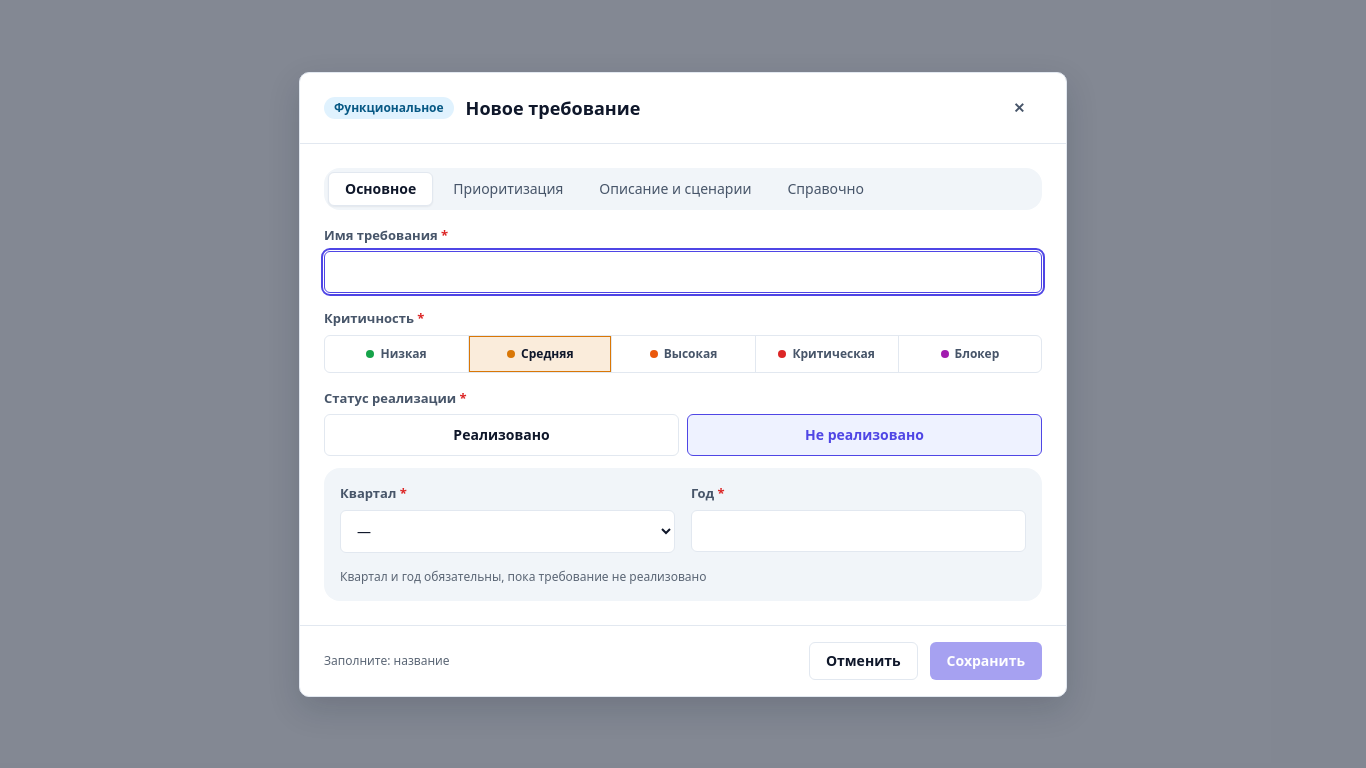
RequirementModal — AI generation (T-803) › T4: «Заменить описание» overwrites the current description
This screenshot has width=1366, height=768.
In the field with test id "req-name": (683,272) 324,251 -> 1042,293, type "Требование"
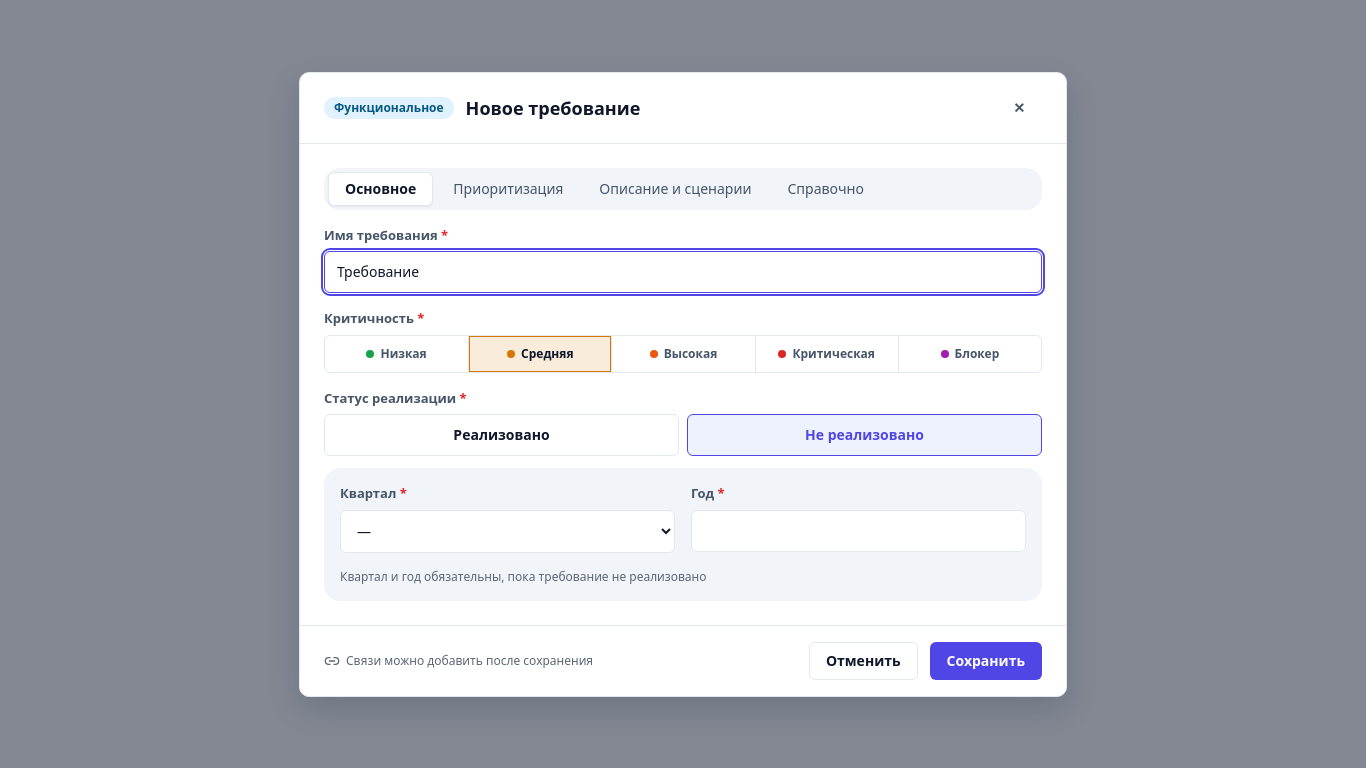
Click the tab with test id "req-tab-desc": (675,188) 583,172 -> 768,206
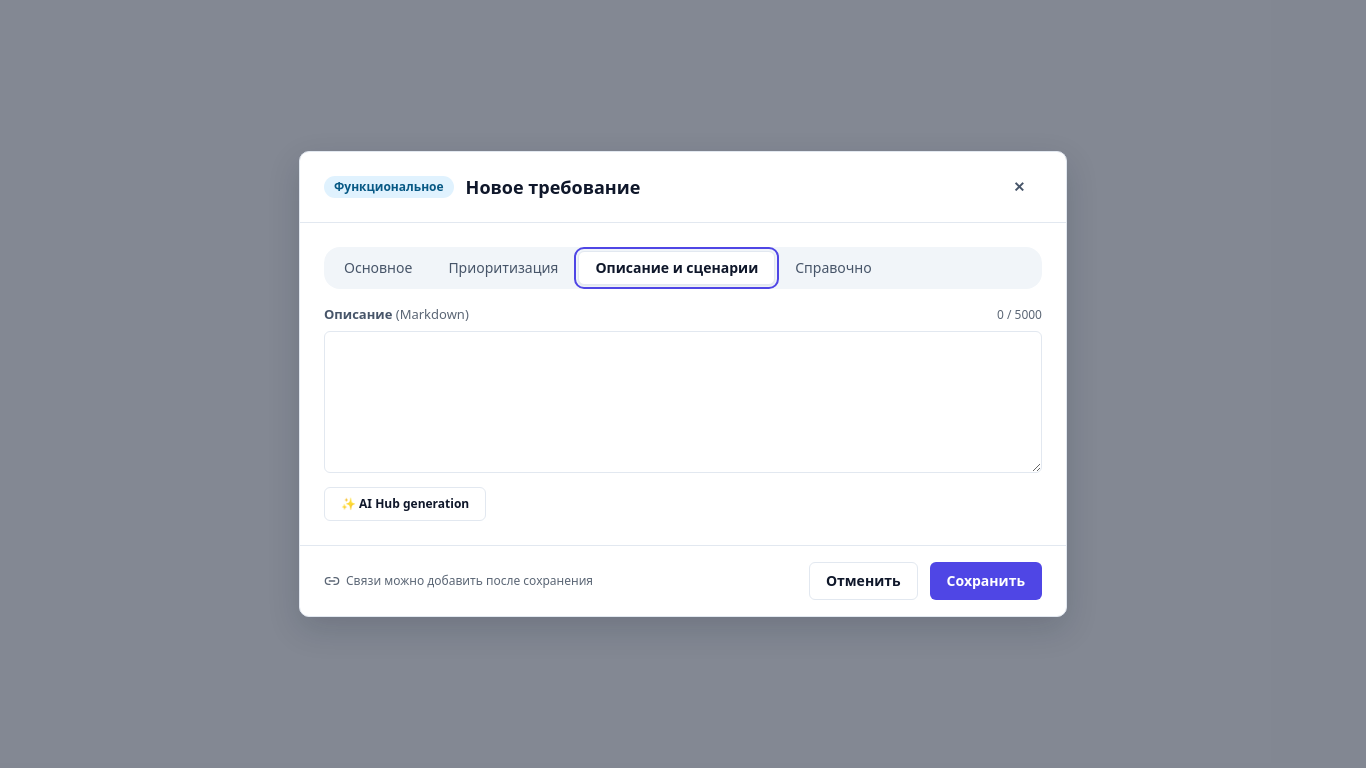
In the text box with test id "req-description": (683,402) 324,331 -> 1042,473, type "Старый текст."
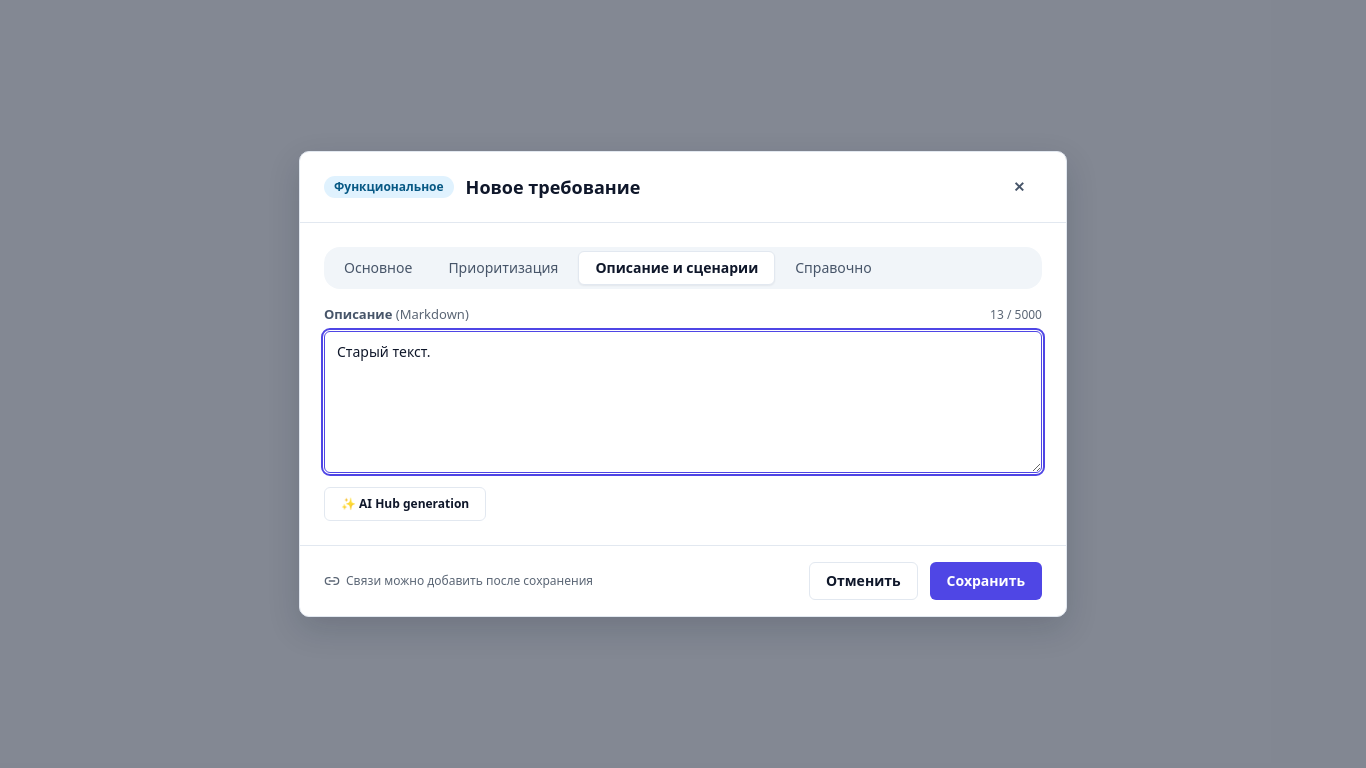
Click the button with test id "ai-gen-open": (405,504) 324,487 -> 486,521
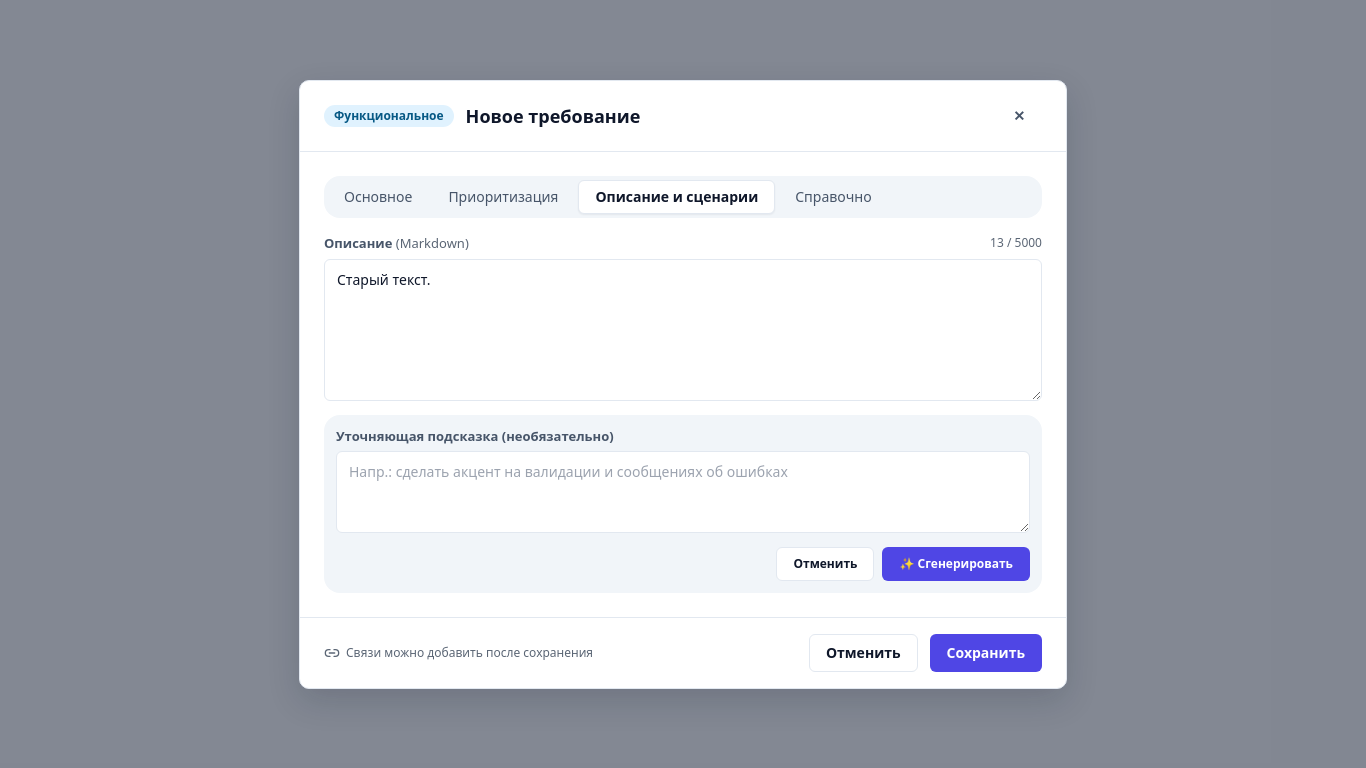
Click the button with test id "ai-gen-submit": (956,564) 882,546 -> 1030,580
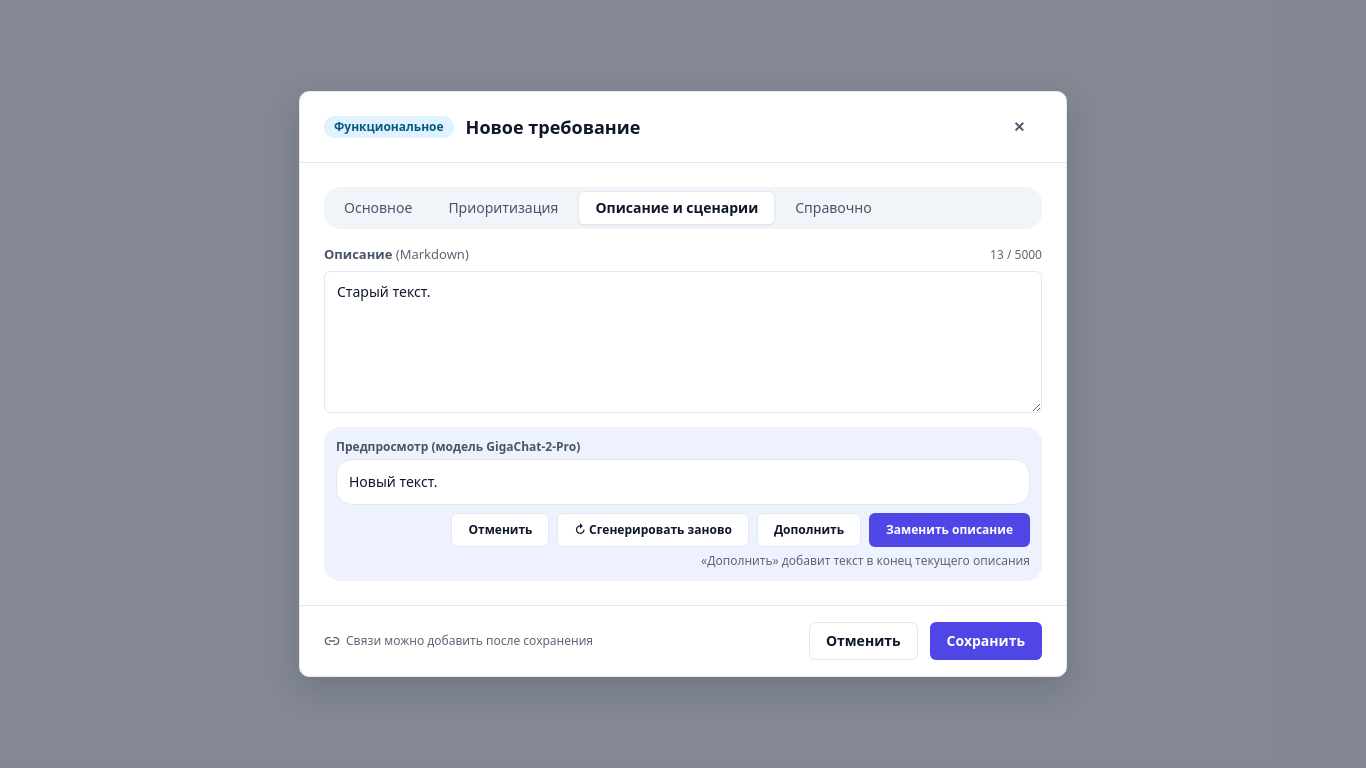
Now the text "Новый текст." is shown, box 336,459 -> 1030,505
Click the button with test id "ai-gen-apply": (950,530) 869,513 -> 1030,547
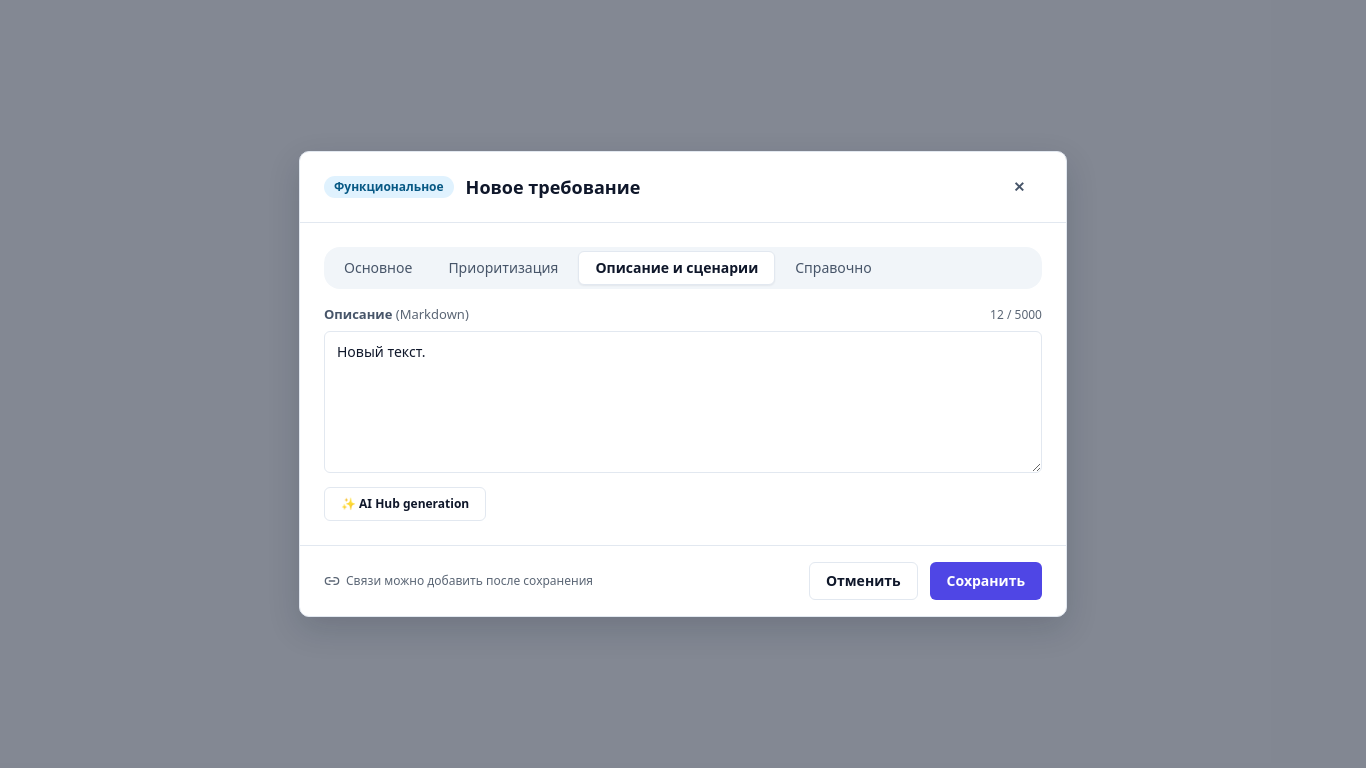
Now the text box with test id "req-description" holds "Новый текст.", box 324,331 -> 1042,473
